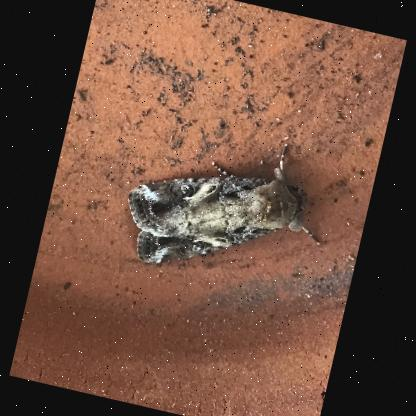Fall Armyworm Moth: (110, 108, 343, 302)
